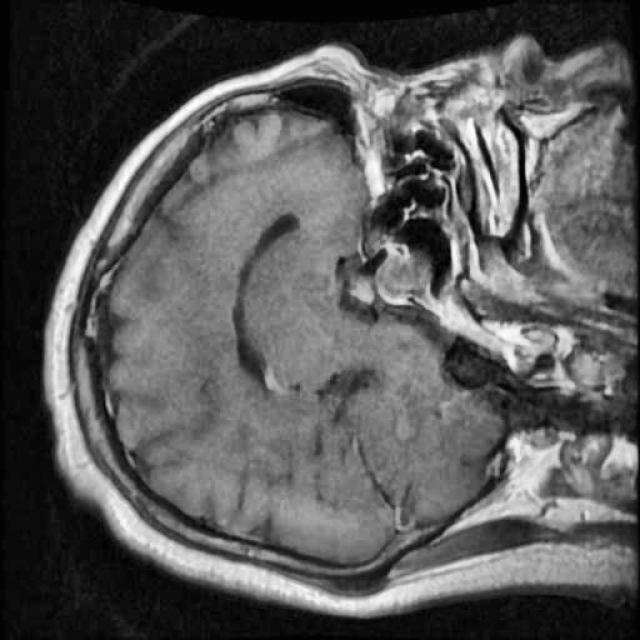Tumor: (358, 231, 448, 320)
